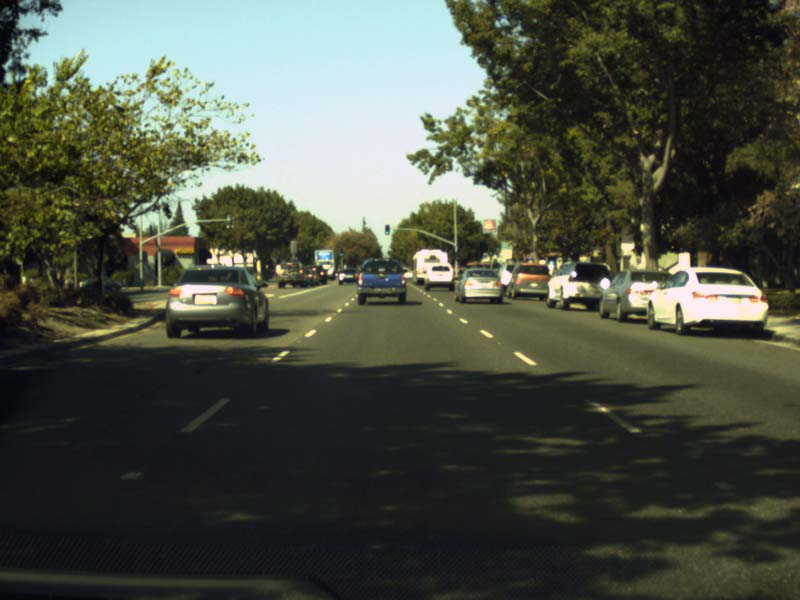Green: (487, 243, 493, 256), (338, 247, 343, 256), (385, 224, 389, 235)
